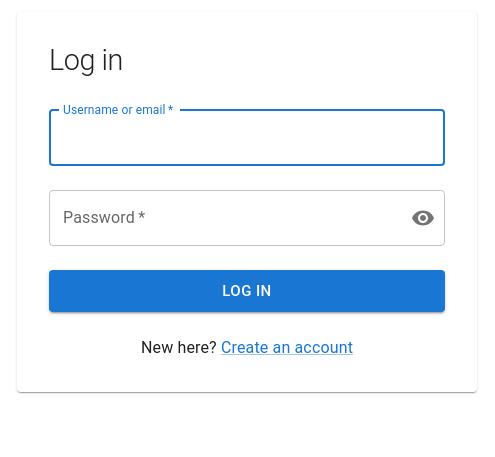
it: LoginPage: client-side validation › asks for both values, sends nothing, and focuses the first empty field
Click the button "Log in" at point(247, 291), box [49,270,445,312]
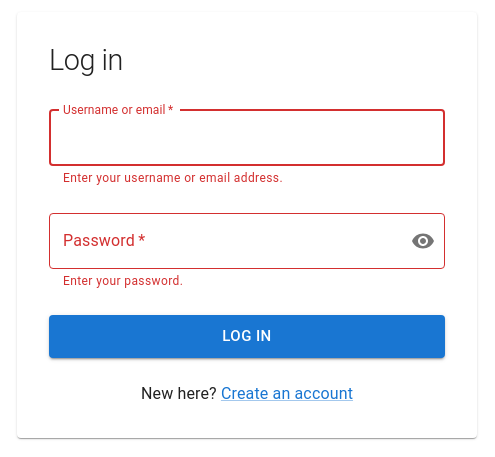
Expected: the text "Enter your username or email address." is shown, [63,171,283,185]
Expected: the text "Enter your password." is shown, [63,274,183,288]
